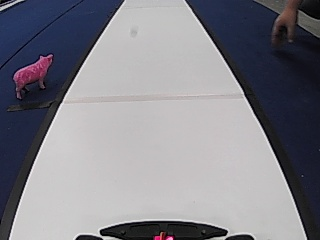pig: (10, 52, 53, 96)
